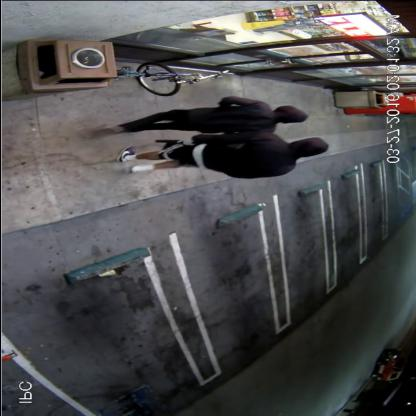long weapon: (152, 135, 246, 154)
